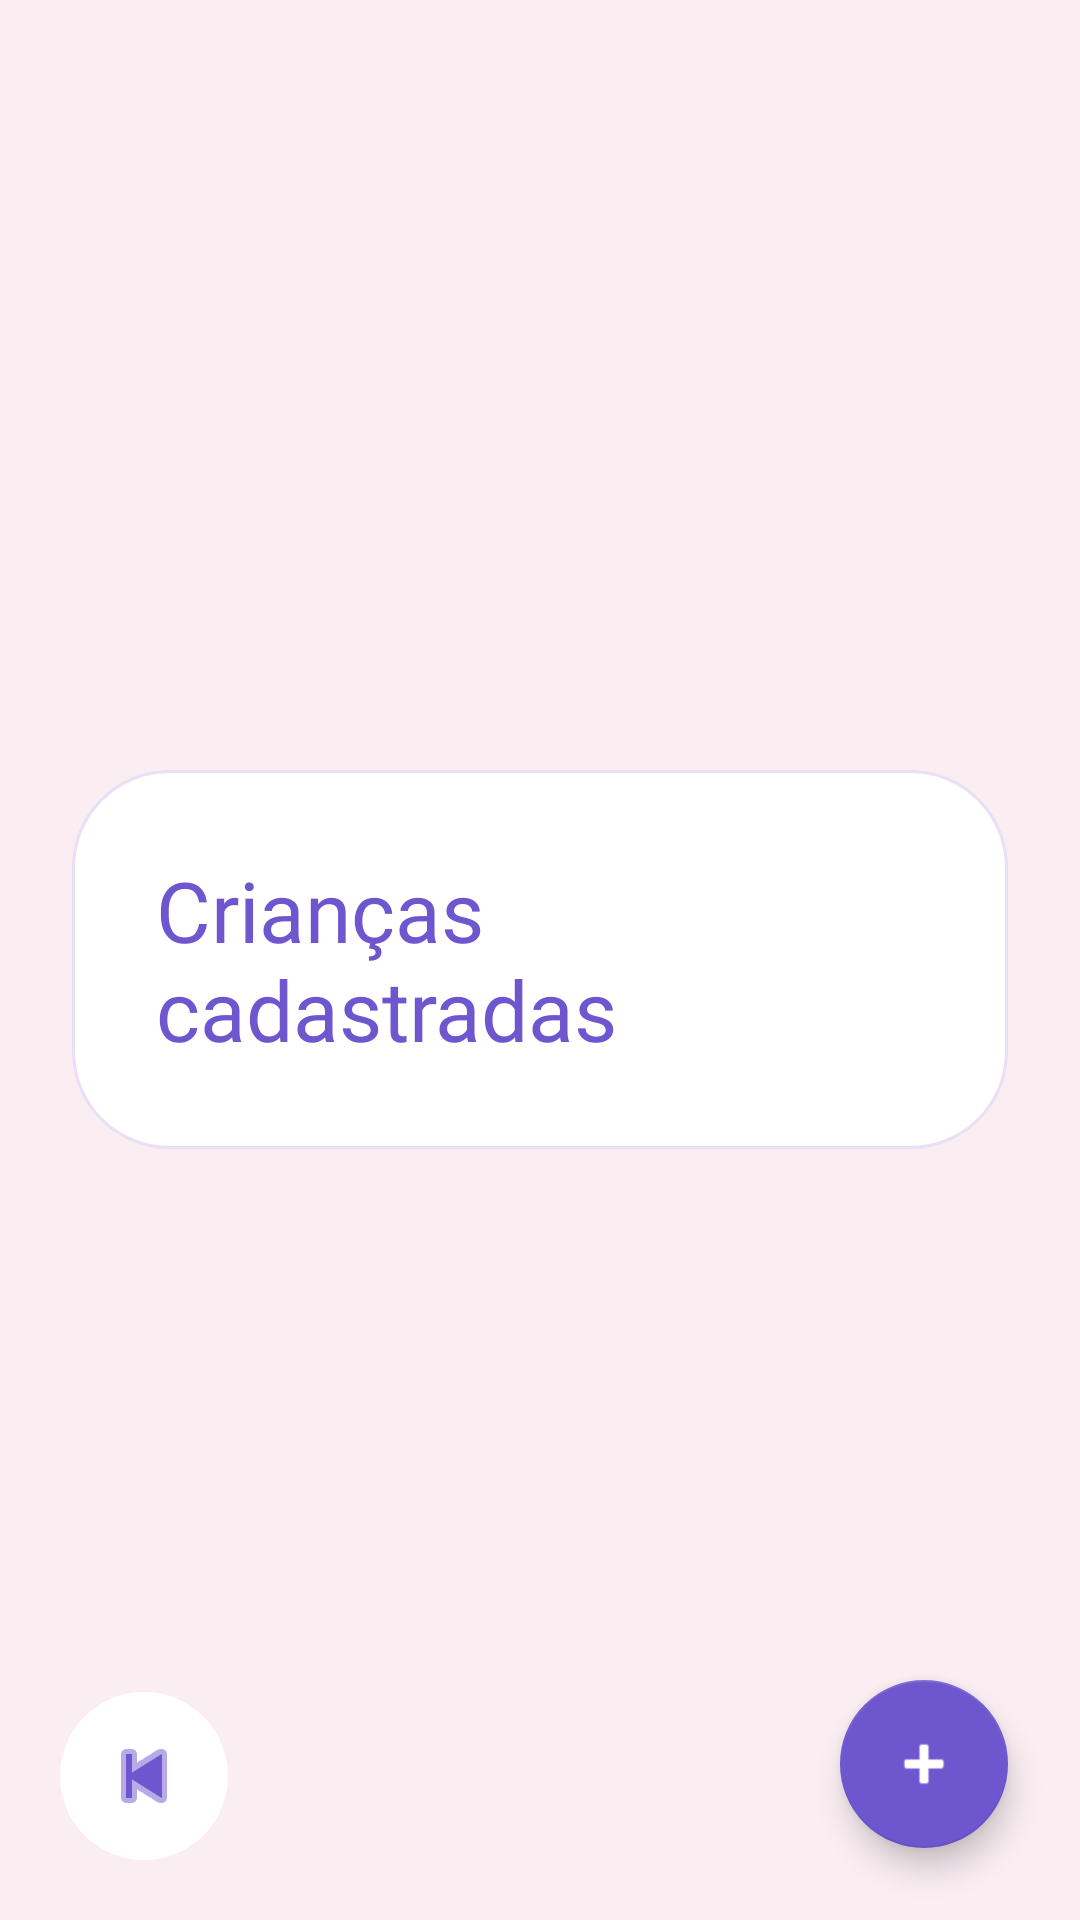

Named icons in this screenshot (1080 × 1920) and their centers, (x,y):
add: (924,1764)
previous: (144,1776)
